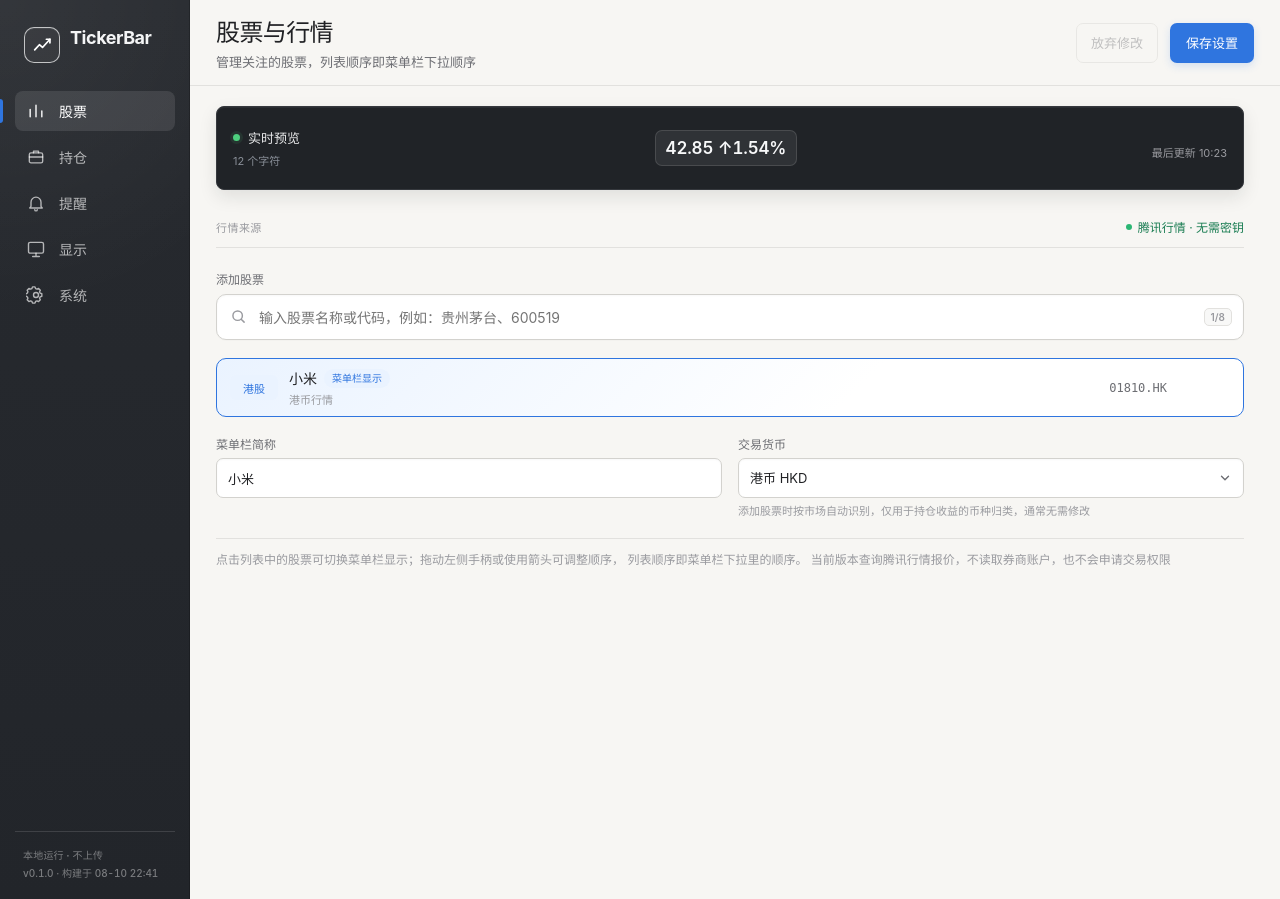
Test: TickerBar settings window › rejects an alert draft with a malformed threshold
The width and height of the screenshot is (1280, 899).
Click the button with test id "nav-alerts": click(95, 203) [15,183,175,223]
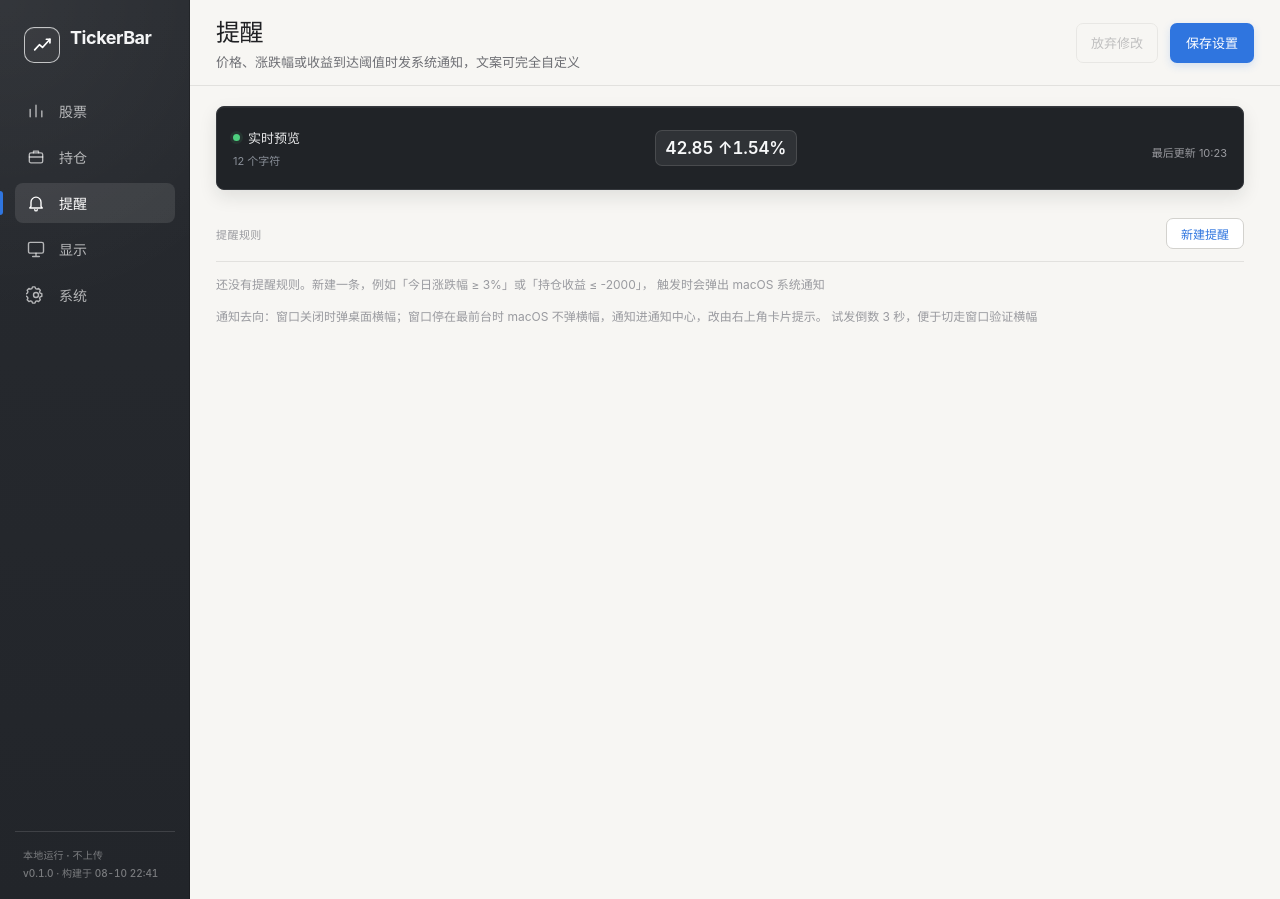
Click the button with test id "alert-create": click(1205, 234) [1166,218,1244,249]
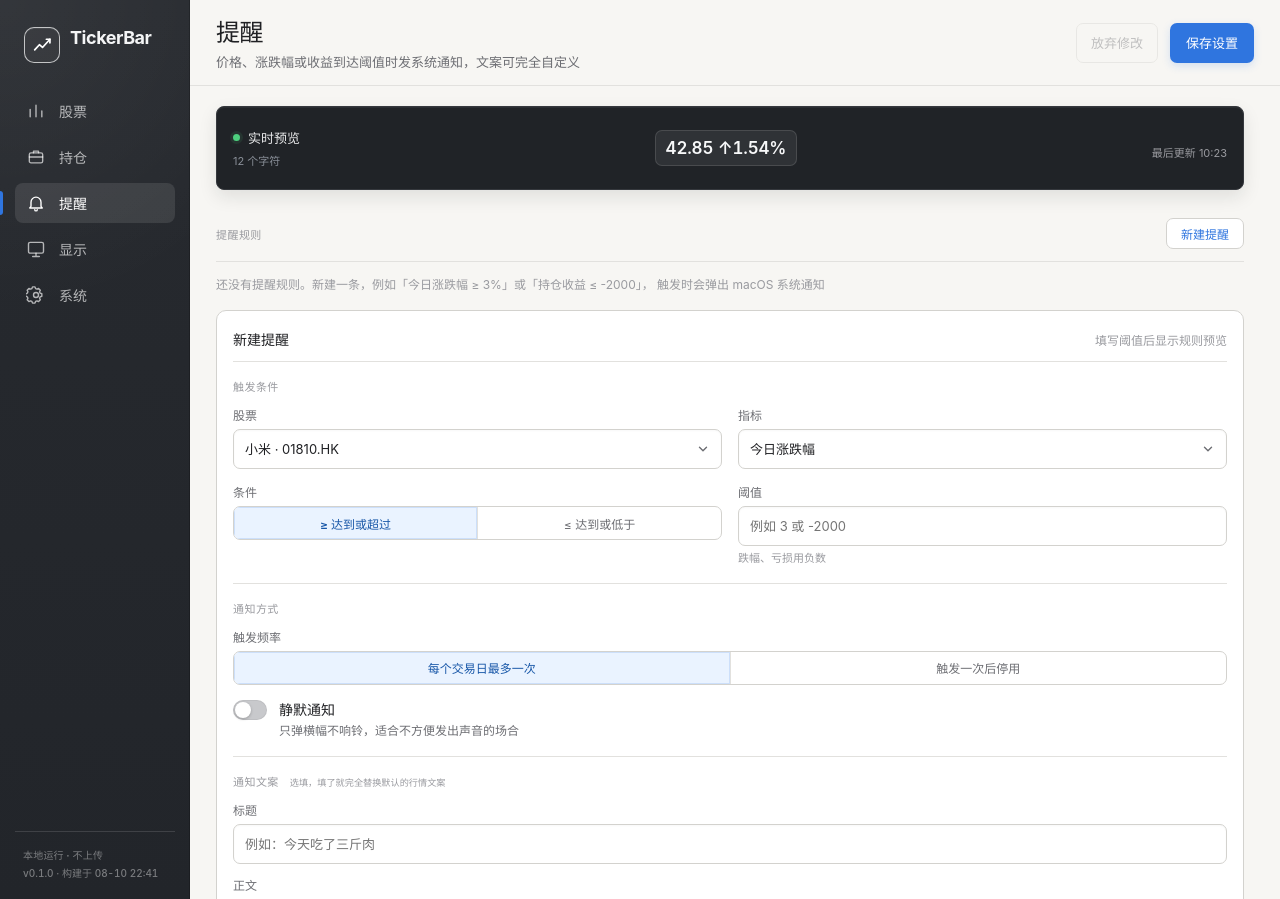
In the field with test id "alert-threshold": (982, 526) [738,506,1227,546], type "abc"
(page scrolled)
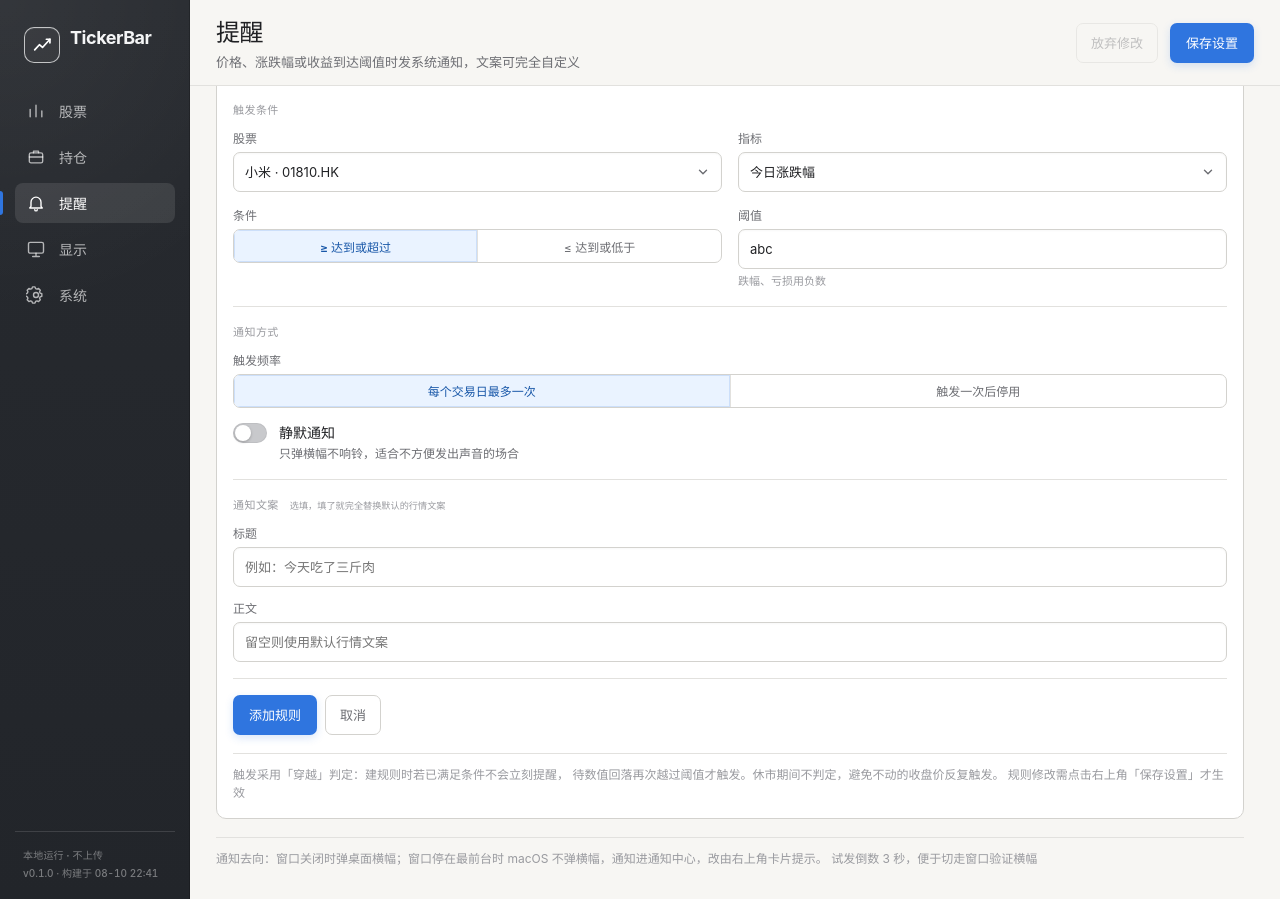
Click the button with test id "alert-submit": click(275, 714) [233,694,317,734]
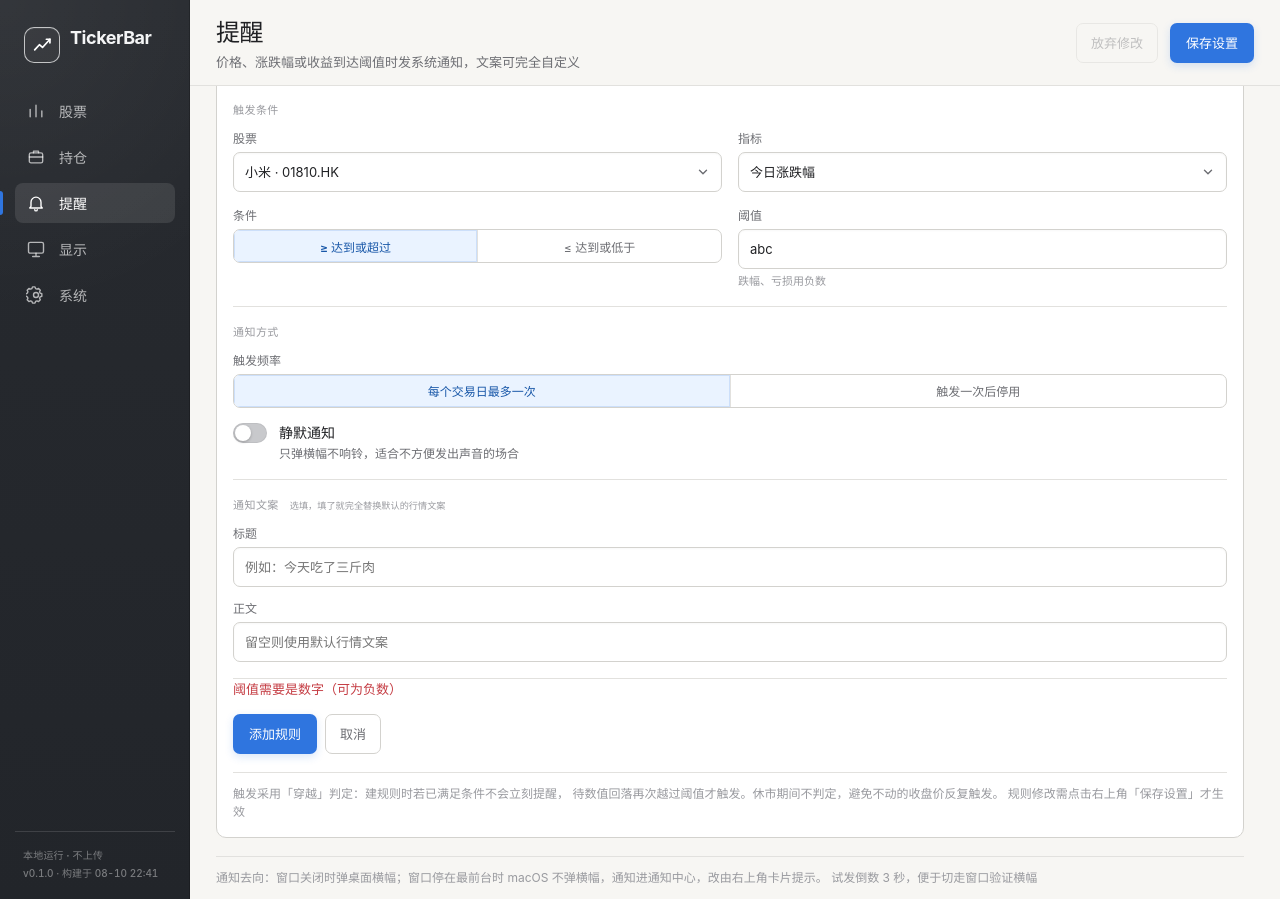
Expected: the message with test id "alert-form-error" reads "阈值需要是数字（可为负数）", [233,680,402,696]
